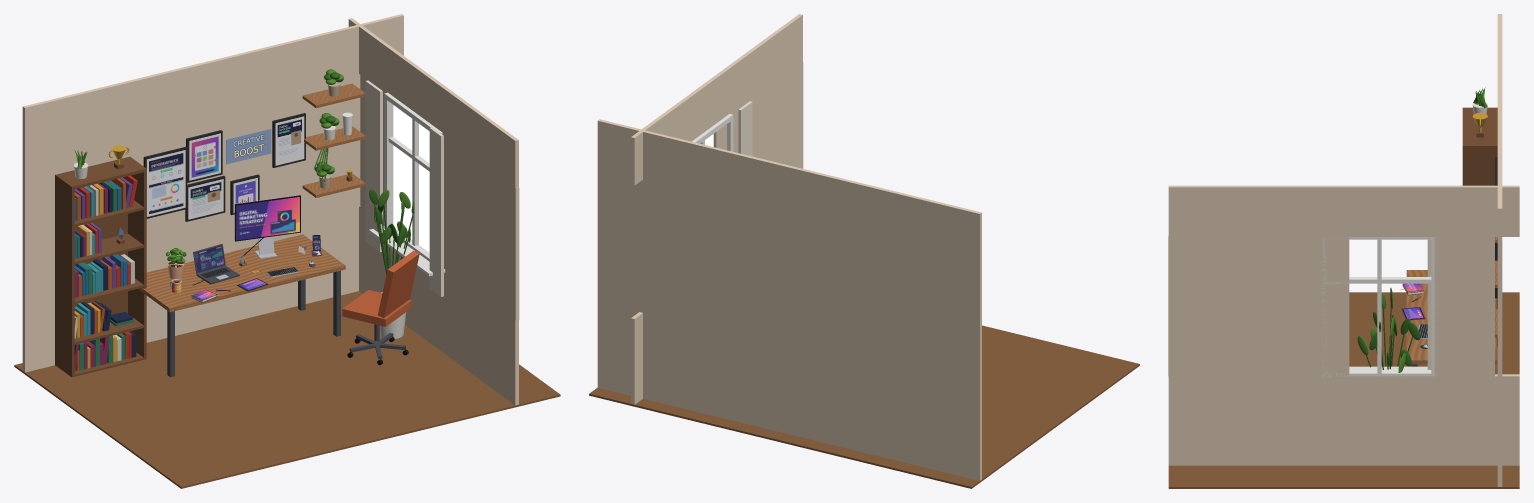
File: marketing_desk.glb
The picture shows the model from 3 angles, left to right: view 1: azimuth 30°, elevation 25°; view 2: azimuth 150°, elevation 25°; view 3: azimuth 270°, elevation 25°; orthographic projection. The views are drawn at different scales.
Visible parts, largest first — view 1: BackWall, Floor, RightWall, Bookshelf, Window, Desk, PlantShelves, Chair, Monitor, Poster_Infographics, FloorPlant, Poster_SocialMedia (+5 smaller); view 2: BackWall, Floor, RightWall, Window; view 3: RightWall, Floor, Window, Bookshelf, BackWall, FloorPlant, Desk.
Boxes of the visible parts, left/top/right/bottom form: BackWall: left=22, top=14, right=403, bottom=372; Floor: left=14, top=291, right=560, bottom=488; RightWall: left=348, top=18, right=519, bottom=405; Bookshelf: left=55, top=145, right=146, bottom=377; Window: left=365, top=80, right=445, bottom=296; Desk: left=138, top=234, right=345, bottom=377; PlantShelves: left=302, top=69, right=365, bottom=197; Chair: left=342, top=250, right=419, bottom=365; Monitor: left=234, top=195, right=300, bottom=258; Poster_Infographics: left=143, top=146, right=187, bottom=218; FloorPlant: left=369, top=189, right=414, bottom=338; Poster_SocialMedia: left=186, top=130, right=222, bottom=182; BackWall: left=597, top=119, right=981, bottom=480; Floor: left=589, top=325, right=1139, bottom=488; RightWall: left=631, top=14, right=803, bottom=404; Window: left=692, top=101, right=752, bottom=156; RightWall: left=1168, top=185, right=1519, bottom=465; Floor: left=1168, top=292, right=1519, bottom=488; Window: left=1321, top=235, right=1436, bottom=378; Bookshelf: left=1462, top=87, right=1497, bottom=346; BackWall: left=1497, top=14, right=1502, bottom=486; FloorPlant: left=1357, top=288, right=1420, bottom=372; Desk: left=1406, top=270, right=1496, bottom=366.
Bounding box in the file's own units: 4.2 × 2.82 × 3.2.
Materials: 50 (13 with a texture image).
